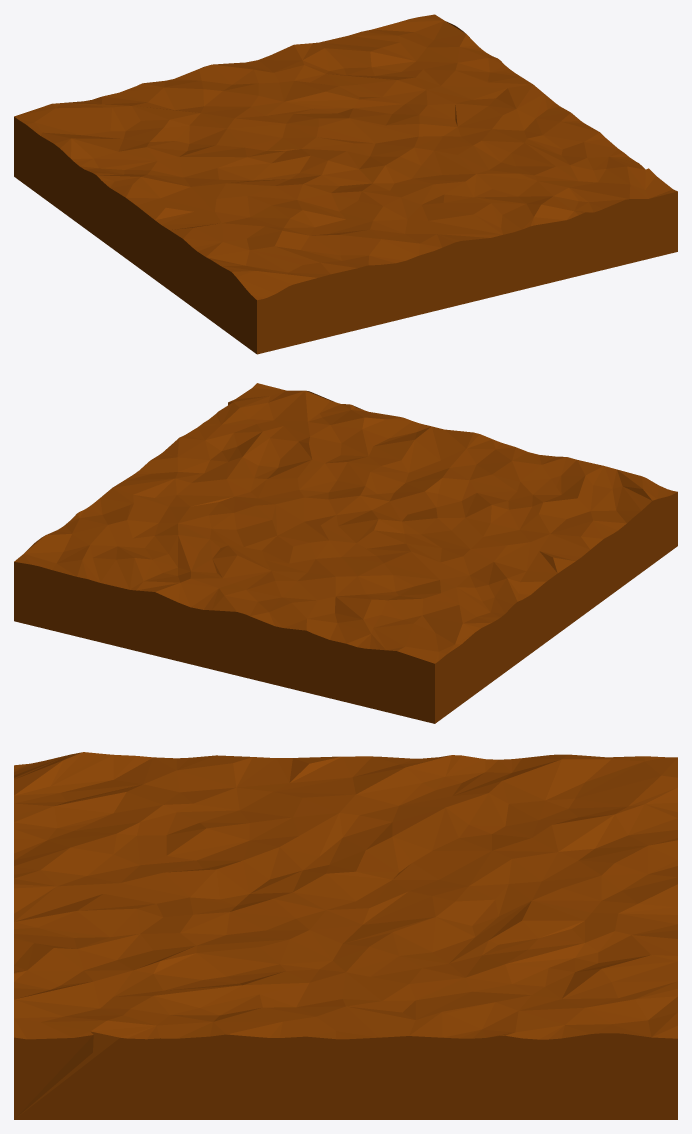
The model's file is Lava_zone.fbx.
3 renders of one model, top to bottom at view 1: azimuth 30°, elevation 25°; view 2: azimuth 150°, elevation 25°; view 3: azimuth 270°, elevation 25°, orthographic. The views are drawn at different scales.
Parts seen in each view (by area): view 1: pPlane1; view 2: pPlane1; view 3: pPlane1.
Boxes of the visible parts, x1,y1,x2,y2 form: pPlane1: (14,14,677,354); pPlane1: (14,383,677,723); pPlane1: (14,752,677,1119).
Size of the model in its own units: 25 by 3.76 by 25.
